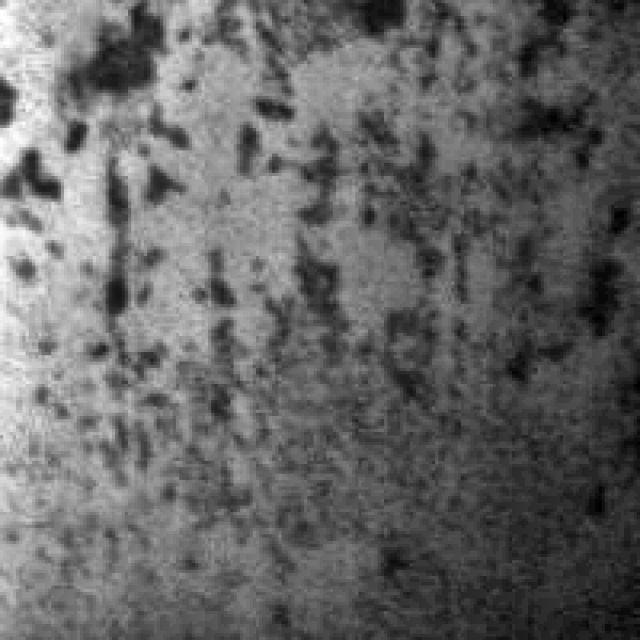Rolled_in_Scale: (22, 22, 294, 582), (432, 92, 637, 630), (236, 51, 438, 493)
